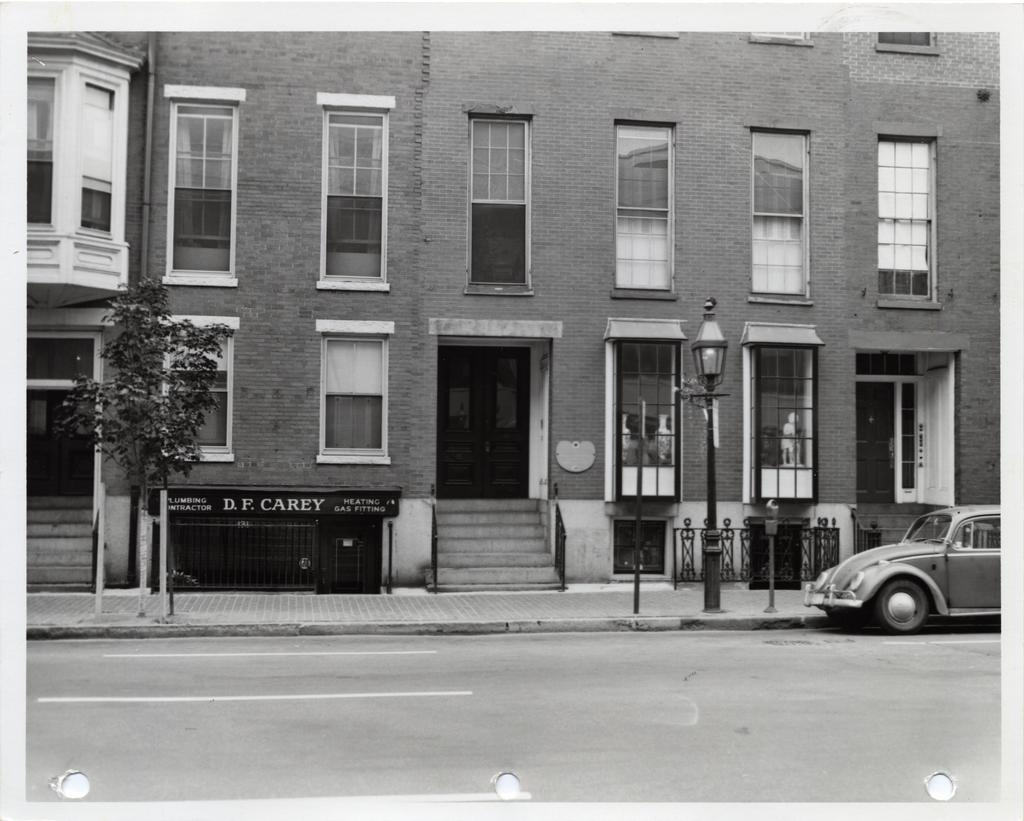Car: (806, 502, 1023, 636)
